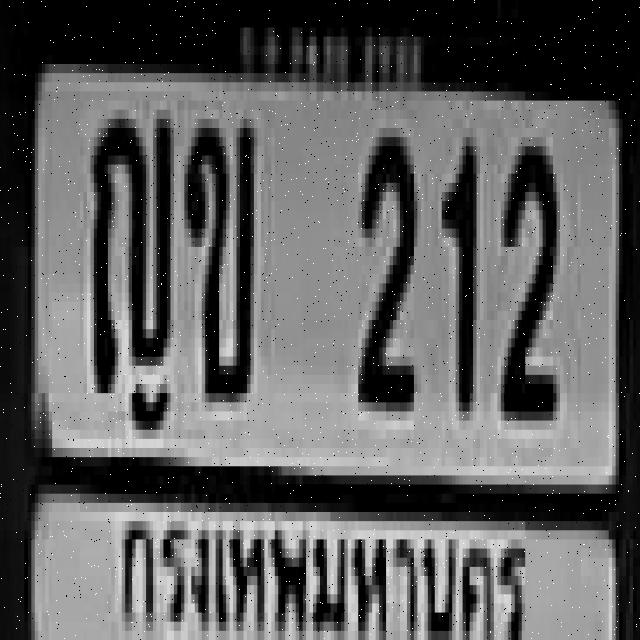1: (438, 132, 473, 406)
11KhorKhai: (180, 110, 250, 393)
2: (355, 128, 414, 402), (497, 138, 553, 412)
22YorYing: (88, 105, 168, 389)
Bangkok: (118, 484, 532, 640)
